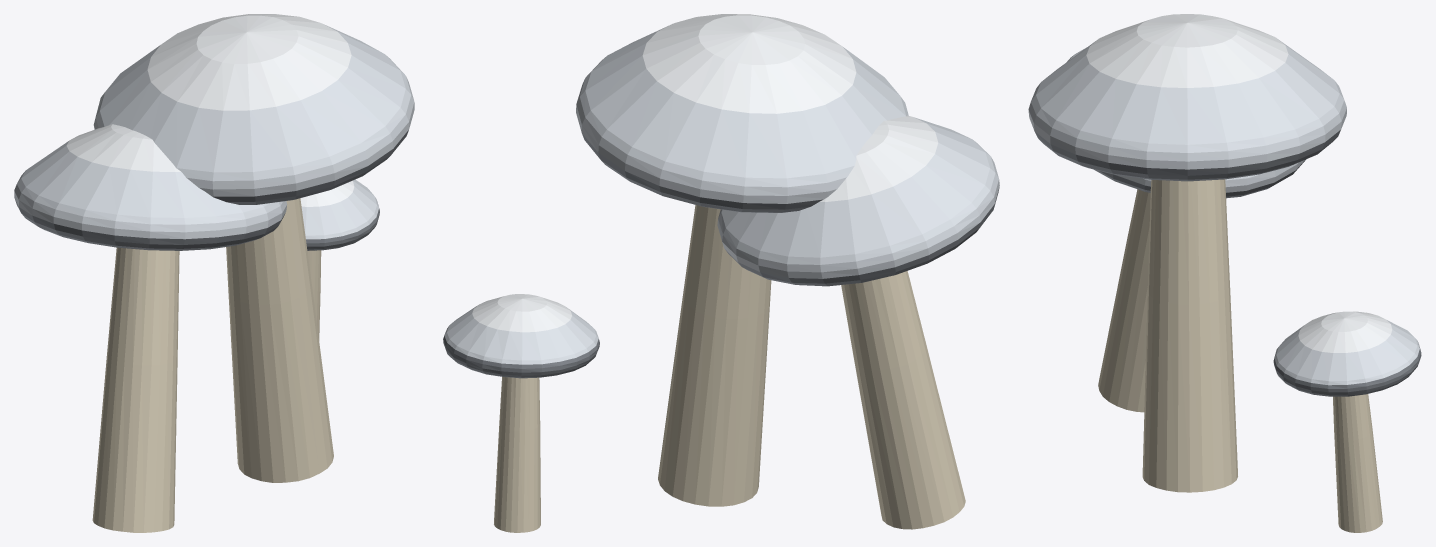
Rendered from MushroomCluster.obj.
3 renders of one model, left to right at view 1: azimuth 30°, elevation 25°; view 2: azimuth 150°, elevation 25°; view 3: azimuth 270°, elevation 25°, orthographic. The views are drawn at different scales.
Size of the model in its own units: 1.22 by 1.24 by 0.999.
